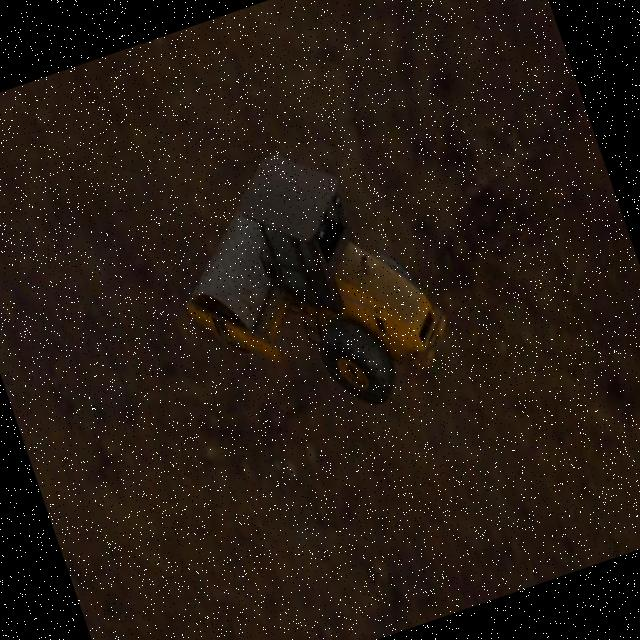Roller: (148, 117, 465, 453)
